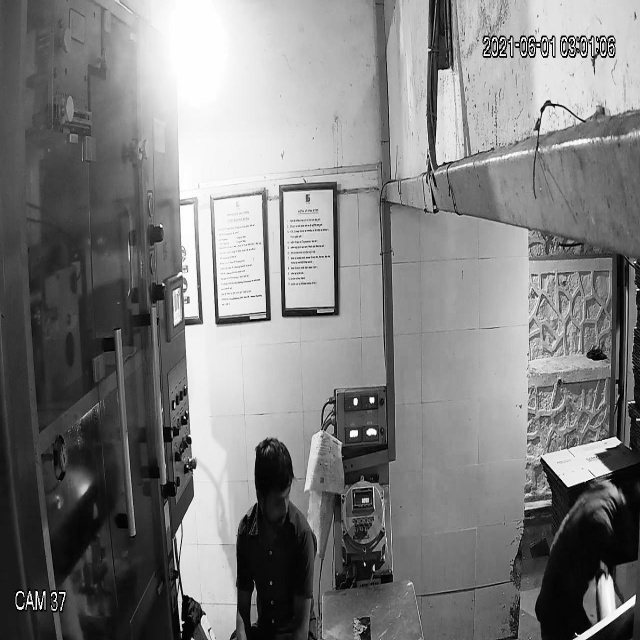Sin_gafas: (251, 480, 294, 515)
